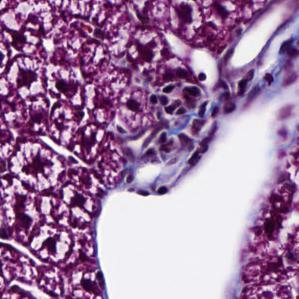inflammation: (9, 138, 66, 193), (42, 61, 88, 108), (124, 32, 163, 67), (8, 58, 43, 97)
